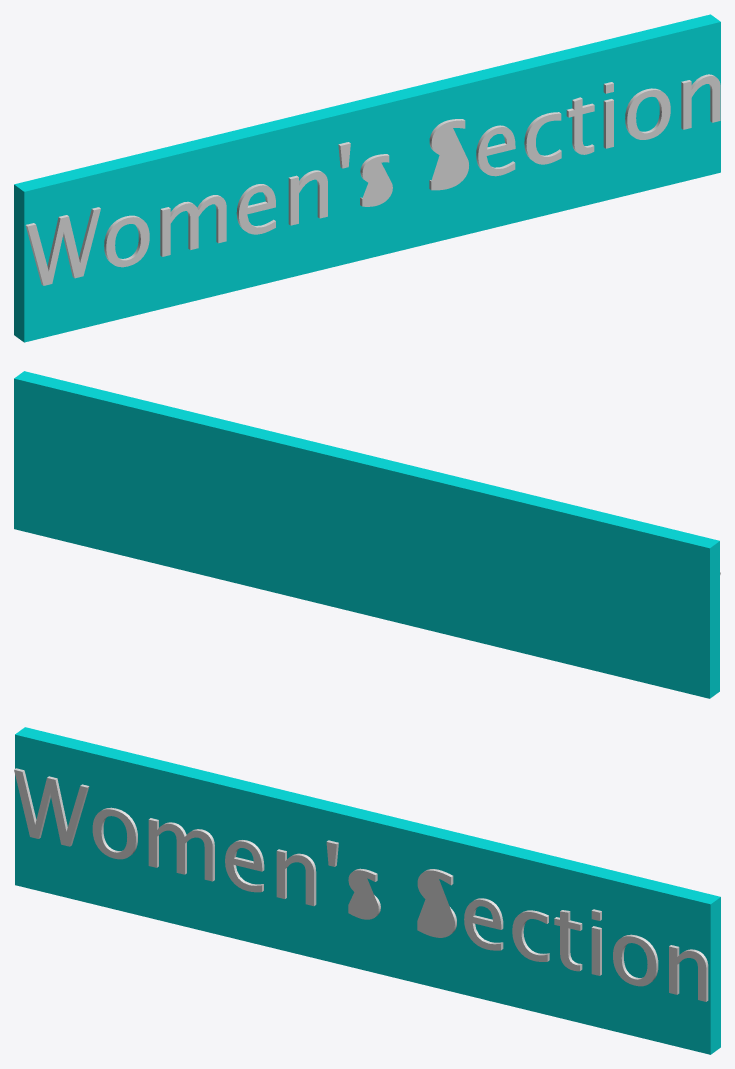
File: WomenSign.fbx
3 renders of one model, top to bottom at view 1: azimuth 30°, elevation 25°; view 2: azimuth 150°, elevation 25°; view 3: azimuth 330°, elevation 25°, orthographic.
Parts seen in each view (by area): view 1: womens_sign:typeMesh2; view 2: womens_sign:typeMesh2; view 3: womens_sign:typeMesh2.
Part boxes in pixels (left/top/right/bottom): womens_sign:typeMesh2: left=14, top=14, right=720, bottom=342; womens_sign:typeMesh2: left=14, top=371, right=720, bottom=698; womens_sign:typeMesh2: left=14, top=727, right=720, bottom=1054.
Bounding box in the file's own units: 2.61 × 0.5389 × 0.0801.
